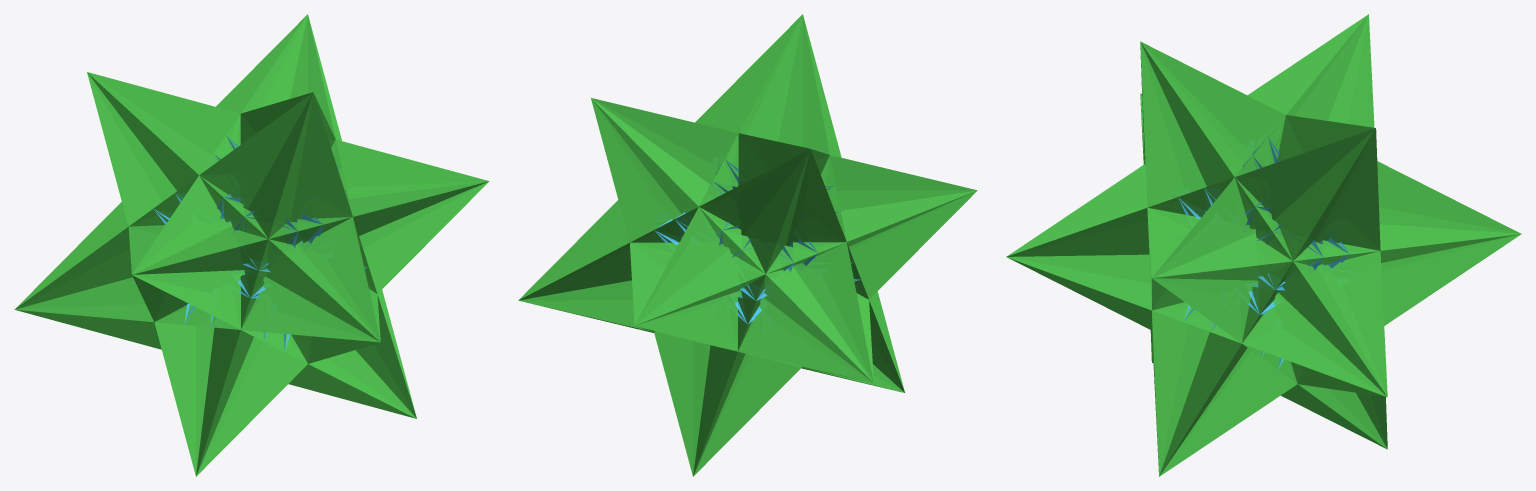
File: 45_Dodecaugmented_Sirsid.obj
The picture shows the model from 3 angles, left to right: view 1: azimuth 30°, elevation 25°; view 2: azimuth 150°, elevation 25°; view 3: azimuth 270°, elevation 25°; orthographic projection. The views are drawn at different scales.
Size of the model in its own units: 1.89 by 1.93 by 2.19.
